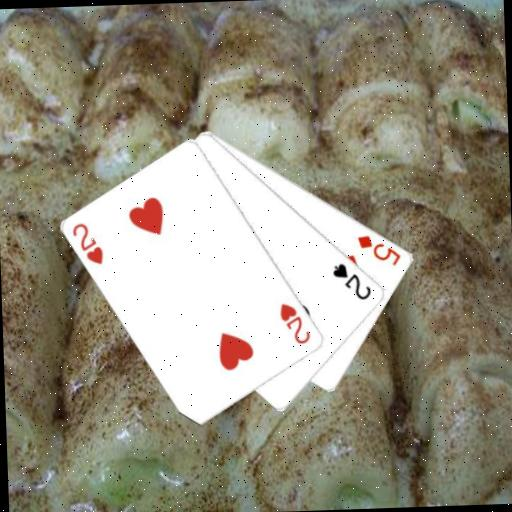2H: (276, 298, 313, 346), (69, 219, 106, 267)
2S: (329, 259, 373, 302)
5D: (354, 230, 403, 268)
